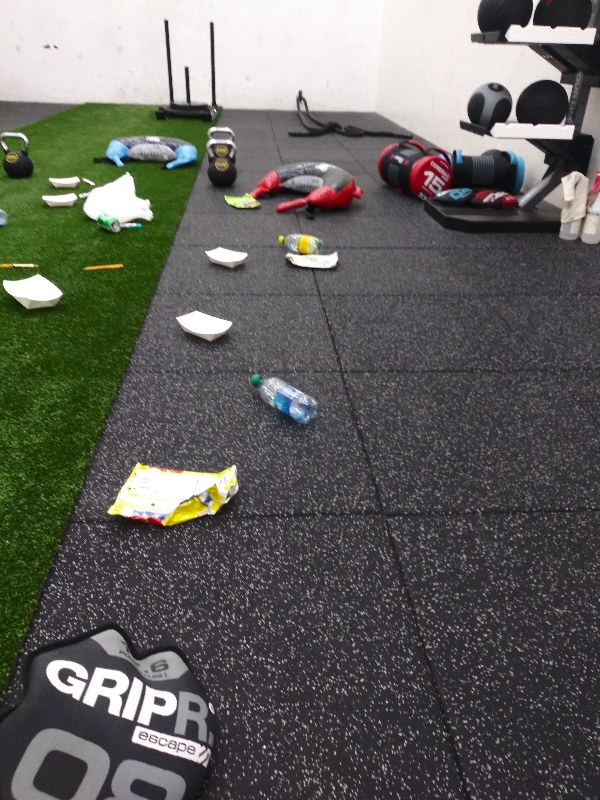bag: (99, 457, 248, 533), (277, 250, 344, 273), (215, 189, 263, 212)
bottle: (245, 369, 324, 434), (275, 228, 325, 254)
can: (92, 214, 124, 235)
plate: (1, 273, 67, 316), (174, 309, 238, 345), (200, 244, 253, 270), (37, 191, 80, 211), (43, 173, 82, 190)
